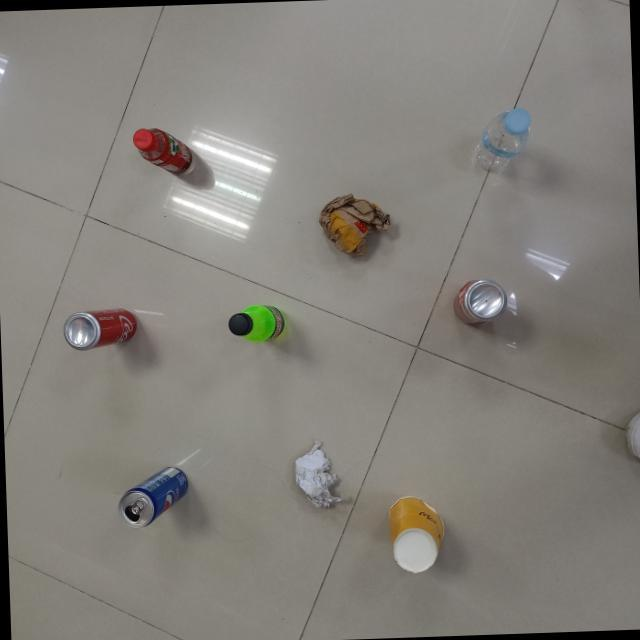recyclable waste: (109, 458, 197, 534), (380, 486, 452, 578), (314, 187, 394, 262), (464, 101, 539, 178), (288, 432, 350, 516), (57, 301, 143, 355), (128, 120, 198, 180), (224, 296, 294, 351), (447, 274, 513, 330)
